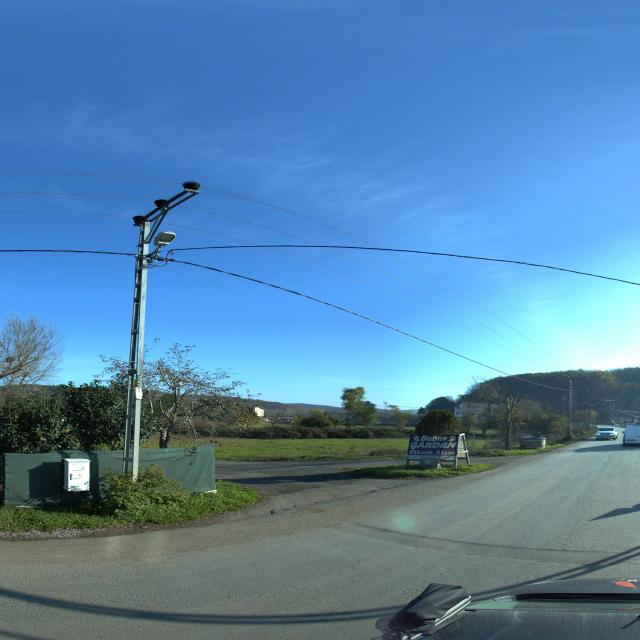Utility Pole Information Plate: (136, 388, 143, 396), (134, 378, 138, 387)
